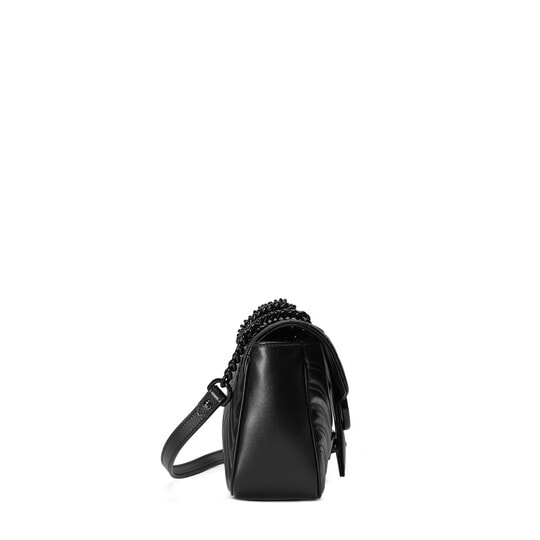Gucci: (196, 286, 388, 524)
